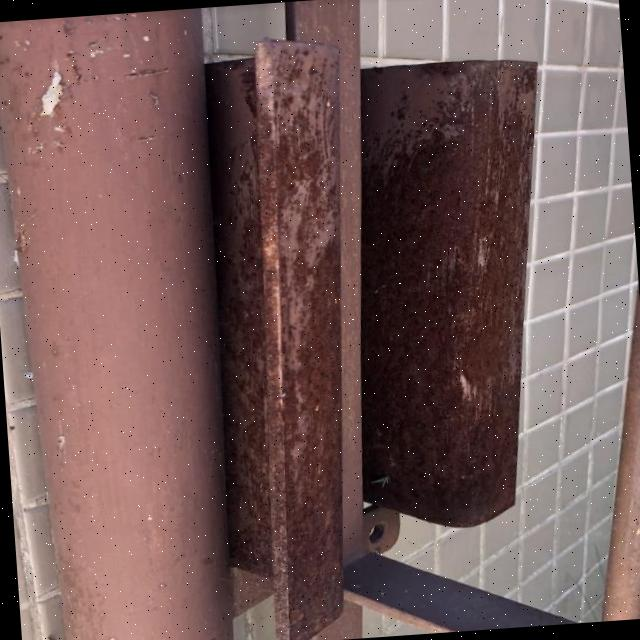Corrosion: (0, 7, 245, 640), (193, 31, 383, 640), (332, 52, 570, 534)
